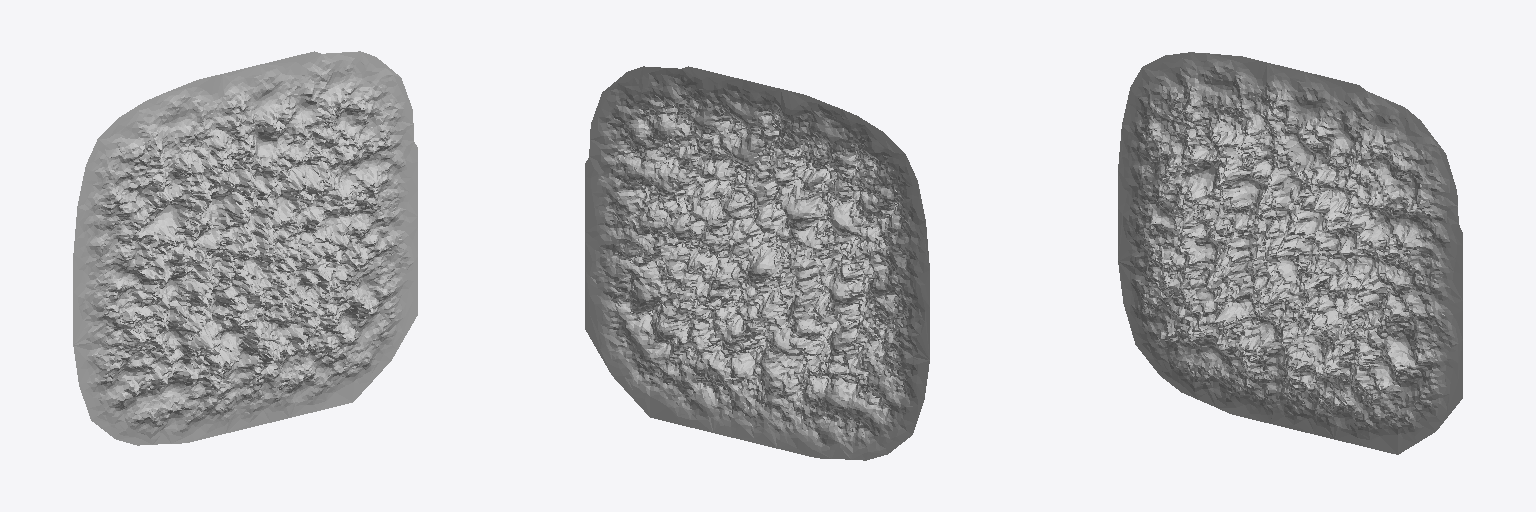
Rendered from Mountain3 5.obj.
The picture shows the model from 3 angles: view 1: azimuth 30°, elevation 25°; view 2: azimuth 150°, elevation 25°; view 3: azimuth 330°, elevation 25°; orthographic projection.
Parts seen in each view (by area): view 1: Landscape.001; view 2: Landscape.001; view 3: Landscape.001.
Boxes of the visible parts, x1,y1,x2,y2 form: Landscape.001: [73, 51, 417, 445]; Landscape.001: [585, 66, 929, 460]; Landscape.001: [1118, 52, 1462, 454].
Bounding box in the file's own units: 64 × 64 × 6.65.